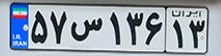character: (69, 9, 107, 48), (124, 9, 145, 50), (48, 8, 70, 47), (30, 8, 49, 49), (145, 9, 164, 49), (107, 9, 125, 49), (188, 18, 207, 52), (170, 18, 187, 50)
